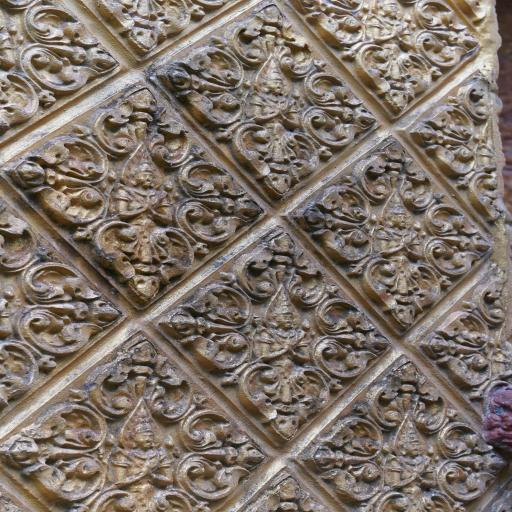la: (0, 136, 106, 236), (0, 397, 100, 501), (16, 2, 126, 96), (86, 340, 205, 424), (20, 257, 120, 353), (82, 220, 195, 298), (209, 123, 332, 194), (212, 1, 322, 77), (90, 84, 197, 162), (153, 38, 243, 128), (290, 60, 379, 150), (177, 408, 261, 503), (86, 0, 226, 56), (222, 234, 330, 306), (343, 41, 444, 115), (182, 162, 266, 246), (166, 280, 248, 366), (295, 420, 380, 501), (354, 255, 446, 328), (309, 291, 385, 378), (242, 362, 336, 431), (428, 416, 504, 499), (344, 139, 436, 206), (401, 94, 478, 174), (298, 185, 374, 263), (423, 197, 494, 276), (410, 308, 483, 383), (364, 364, 437, 427), (415, 2, 482, 70), (297, 0, 370, 46), (454, 170, 512, 224), (445, 77, 511, 120)
than: (98, 142, 184, 230), (106, 396, 178, 496), (240, 289, 323, 367), (231, 54, 309, 132), (378, 415, 448, 493), (364, 189, 432, 264), (362, 0, 416, 50)
